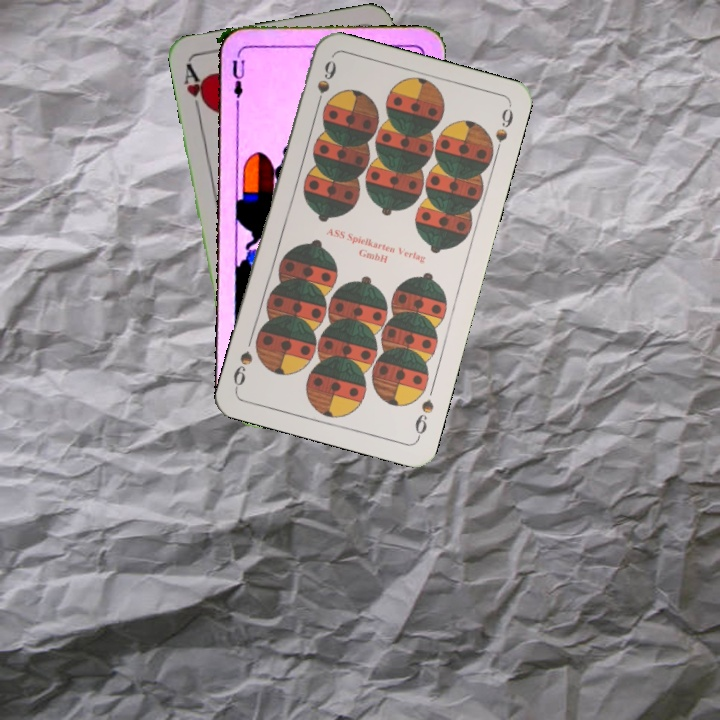EU: (228, 56, 247, 109)
HA: (179, 60, 211, 119)
S9: (311, 55, 339, 113), (411, 395, 437, 442)
